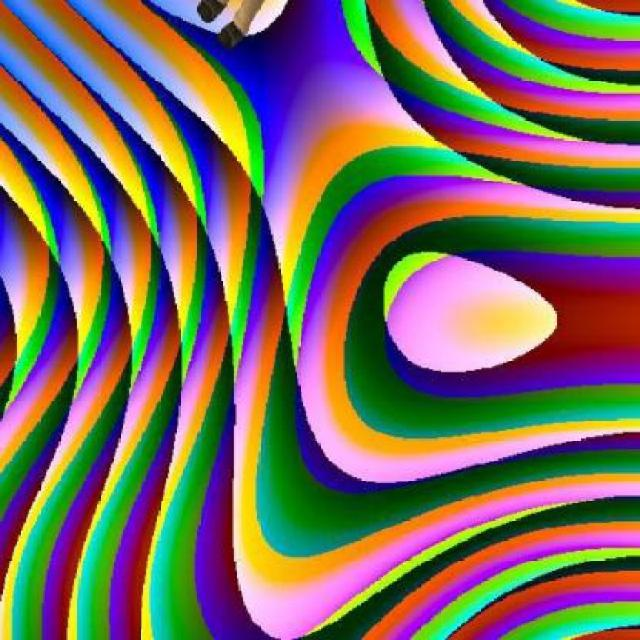Person: (193, 0, 266, 55)
